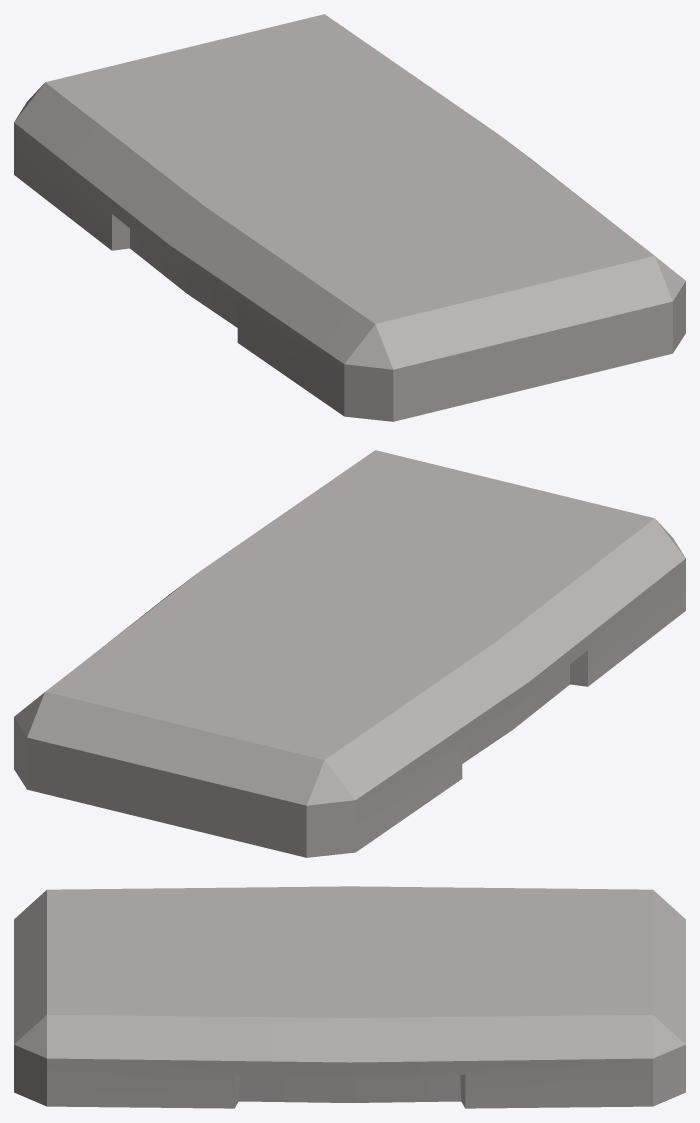
The model's file is SM_Prop_Medical_Container_Lid_01.obj.
The picture shows the model from 3 angles, top to bottom: view 1: azimuth 30°, elevation 25°; view 2: azimuth 150°, elevation 25°; view 3: azimuth 270°, elevation 25°; orthographic projection. The views are drawn at different scales.
Visible parts, largest first — view 1: SM_Prop_Medical_Container_Lid_01_0; view 2: SM_Prop_Medical_Container_Lid_01_0; view 3: SM_Prop_Medical_Container_Lid_01_0.
Part boxes in pixels (x1,y1,x2,y2): SM_Prop_Medical_Container_Lid_01_0: (14, 14, 685, 421); SM_Prop_Medical_Container_Lid_01_0: (14, 450, 685, 857); SM_Prop_Medical_Container_Lid_01_0: (14, 886, 685, 1108).
Bounding box in the file's own units: 0.3107 × 0.0701 × 0.5482.
Materials: 1 (1 with a texture image).
